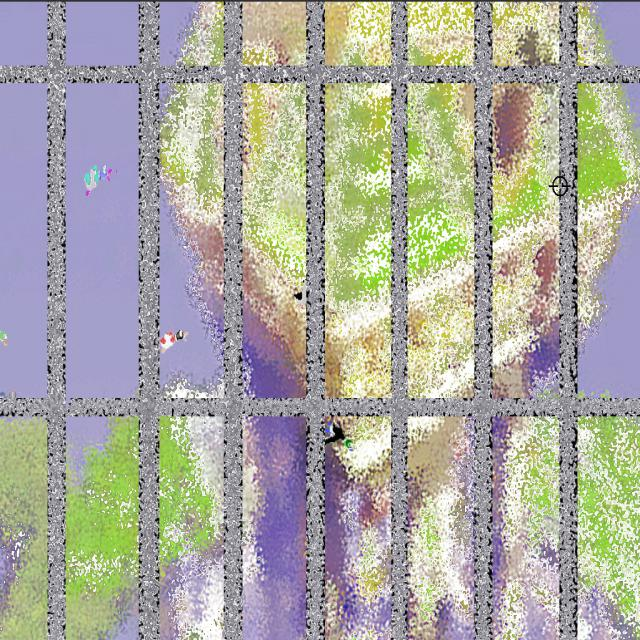duck: (78, 161, 120, 202), (158, 330, 190, 359)
